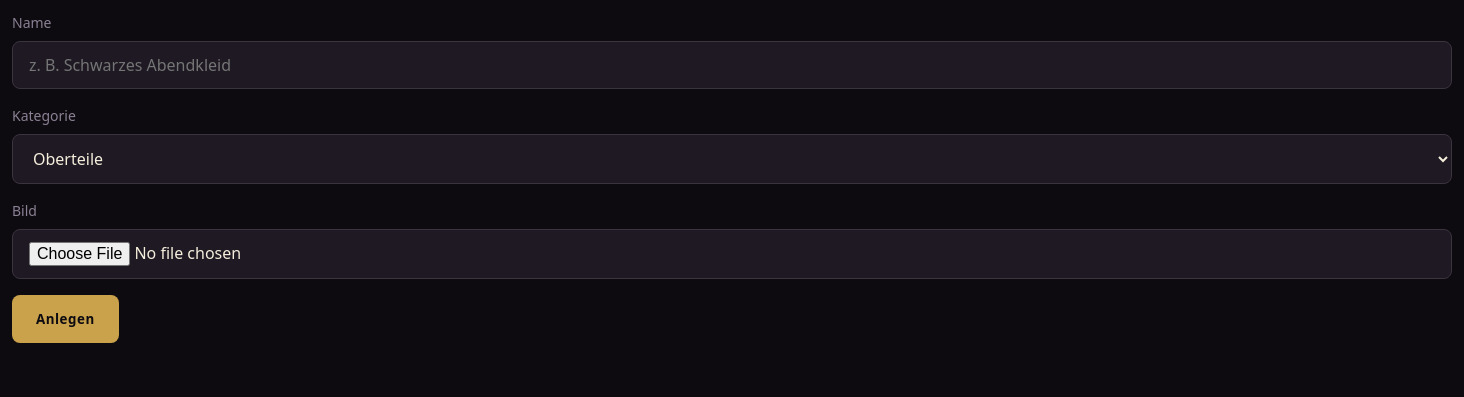
Test: ClothingForm › shows a validation message when the name is missing
Click the button "Anlegen". click: (65, 319)
box: [12,295,119,343]
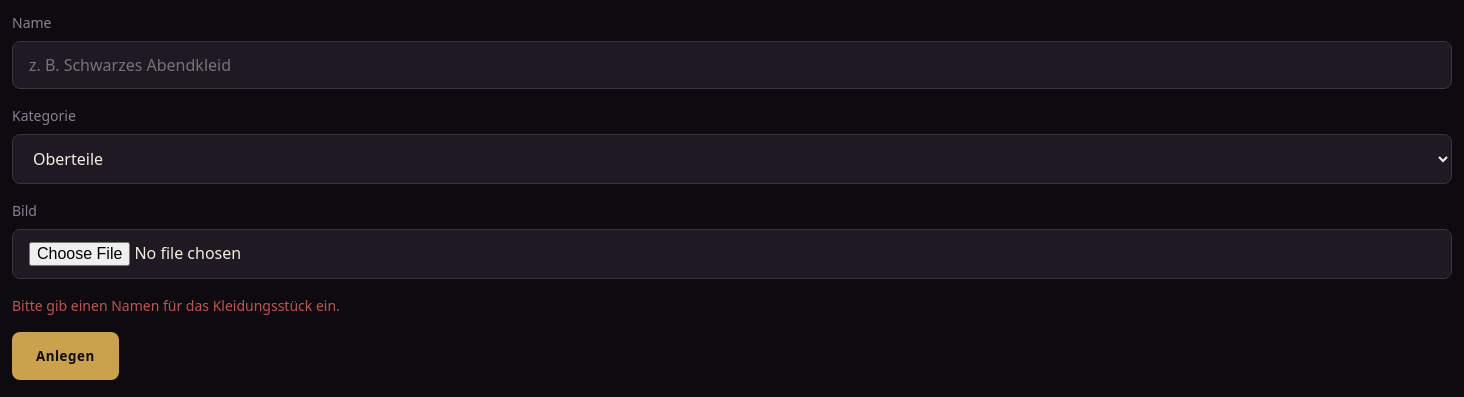
Expected: the text "Bitte gib einen Namen für das Kleidungsstück ein." is shown, [12,296,340,315]
